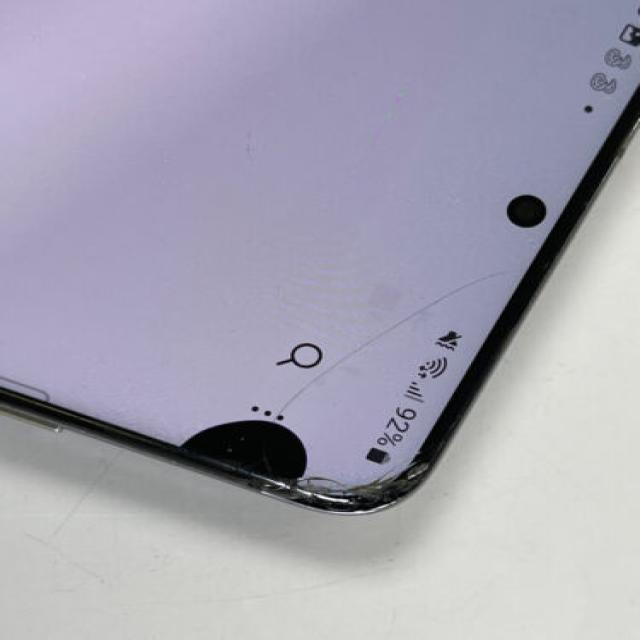dead pixel: (158, 406, 330, 502)
screen crack: (266, 229, 552, 423), (269, 459, 447, 518)
